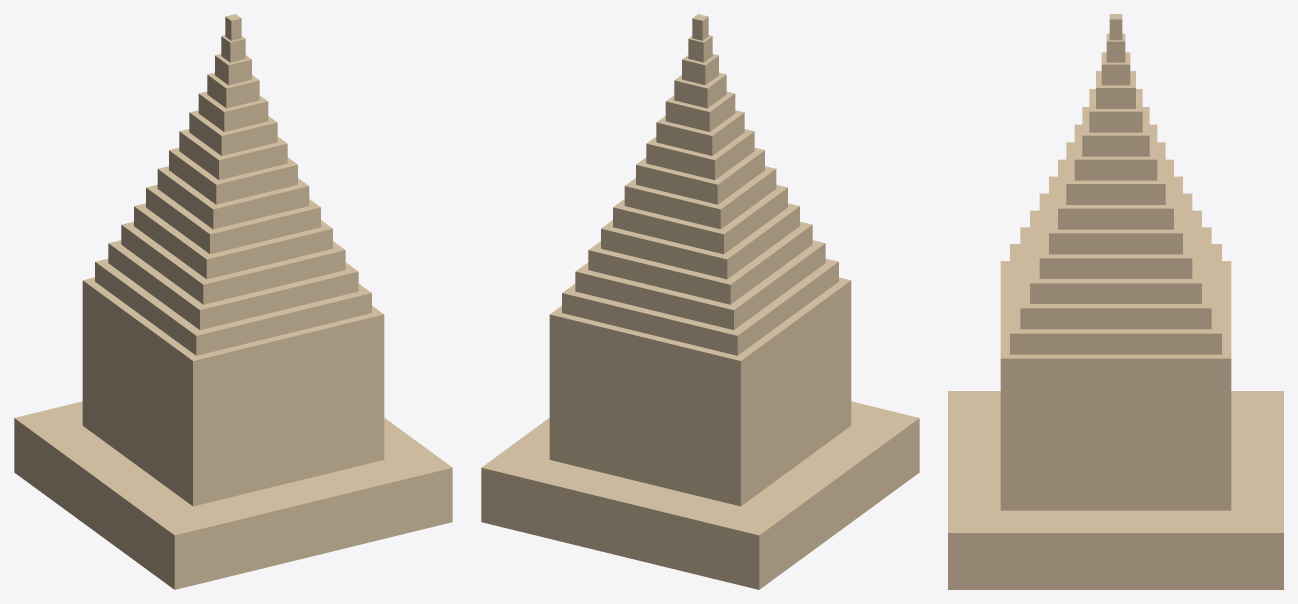
The model's file is nagara_s3.glb.
3 renders of one model, left to right at view 1: azimuth 30°, elevation 25°; view 2: azimuth 150°, elevation 25°; view 3: azimuth 270°, elevation 25°, orthographic. The views are drawn at different scales.
Parts seen in each view (by area): view 1: Cube.001, Cube, Cube.002, Cube.003, Cube.004, Cube.005, Cube.006, Cube.007, Cube.008, Cube.009, Cube.010, Cube.011 (+2 smaller); view 2: Cube.001, Cube, Cube.002, Cube.003, Cube.004, Cube.005, Cube.006, Cube.007, Cube.008, Cube.009, Cube.010, Cube.011 (+2 smaller); view 3: Cube, Cube.001, Cube.002, Cube.003, Cube.004, Cube.005, Cube.006, Cube.007, Cube.008, Cube.009, Cube.010, Cube.011 (+3 smaller).
Boxes of the visible parts, box(x1,y1,x2,y2) form: Cube.001: box(82, 277, 384, 506); Cube: box(14, 401, 452, 589); Cube.002: box(95, 258, 371, 355); Cube.003: box(108, 240, 358, 329); Cube.004: box(121, 221, 345, 304); Cube.005: box(134, 203, 332, 279); Cube.006: box(146, 184, 320, 254); Cube.007: box(157, 166, 309, 229); Cube.008: box(169, 147, 297, 204); Cube.009: box(179, 129, 287, 179); Cube.010: box(189, 110, 277, 155); Cube.011: box(198, 91, 268, 131); Cube.001: box(549, 277, 851, 506); Cube: box(481, 401, 919, 589); Cube.002: box(562, 258, 838, 355); Cube.003: box(575, 240, 825, 329); Cube.004: box(588, 221, 812, 304); Cube.005: box(601, 203, 799, 279); Cube.006: box(613, 184, 787, 254); Cube.007: box(624, 166, 776, 229); Cube.008: box(636, 147, 764, 204); Cube.009: box(646, 129, 754, 179); Cube.010: box(656, 110, 744, 155); Cube.011: box(665, 91, 735, 131); Cube: box(948, 391, 1283, 589); Cube.001: box(1000, 261, 1231, 510); Cube.002: box(1010, 244, 1221, 354); Cube.003: box(1020, 227, 1211, 329); Cube.004: box(1030, 210, 1201, 303); Cube.005: box(1039, 193, 1192, 278); Cube.006: box(1049, 176, 1182, 254); Cube.007: box(1058, 159, 1173, 229); Cube.008: box(1066, 142, 1165, 204); Cube.009: box(1074, 124, 1157, 180); Cube.010: box(1082, 107, 1149, 156); Cube.011: box(1089, 89, 1142, 132).
Size of the model in its own units: 3.2 by 5.28 by 3.2.
